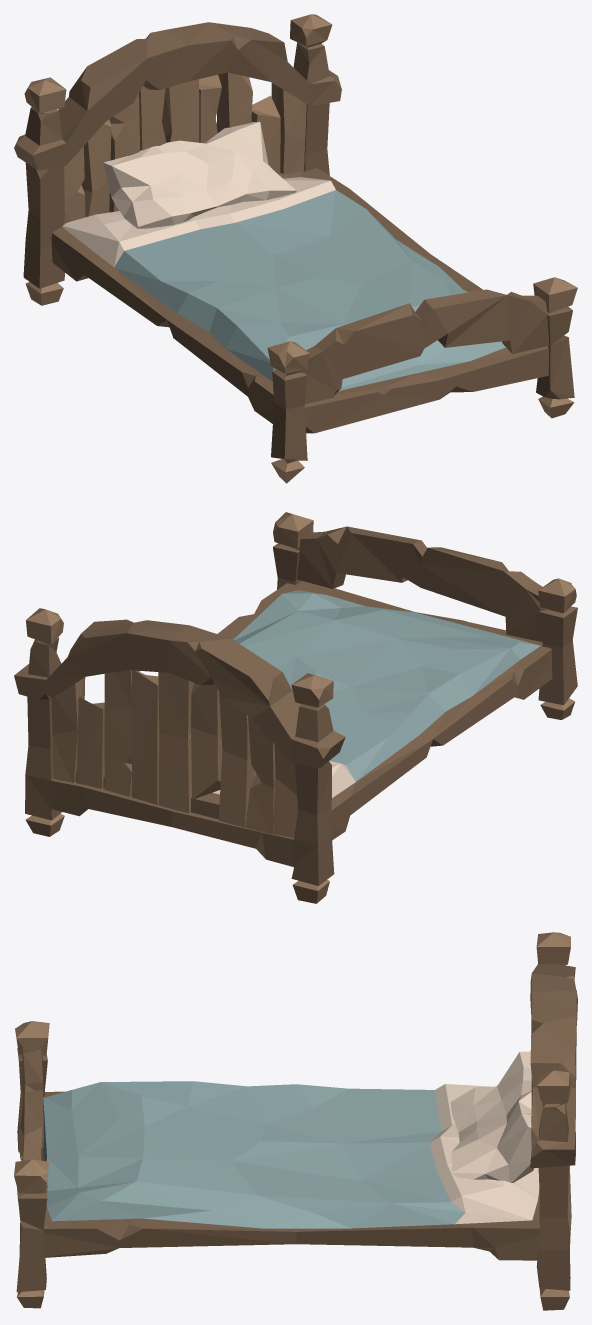
The model's file is CaptainBed_Blue.fbx.
The picture shows the model from 3 angles, top to bottom: view 1: azimuth 30°, elevation 25°; view 2: azimuth 150°, elevation 25°; view 3: azimuth 270°, elevation 25°; orthographic projection. The views are drawn at different scales.
Parts seen in each view (by area): view 1: CaptainBed_Blue; view 2: CaptainBed_Blue; view 3: CaptainBed_Blue.
Part boxes in pixels (x1,y1,x2,y2): CaptainBed_Blue: (14, 14, 577, 483); CaptainBed_Blue: (14, 512, 577, 903); CaptainBed_Blue: (14, 932, 577, 1310).
Bounding box in the file's own units: 4.1 × 2.94 × 6.03.
